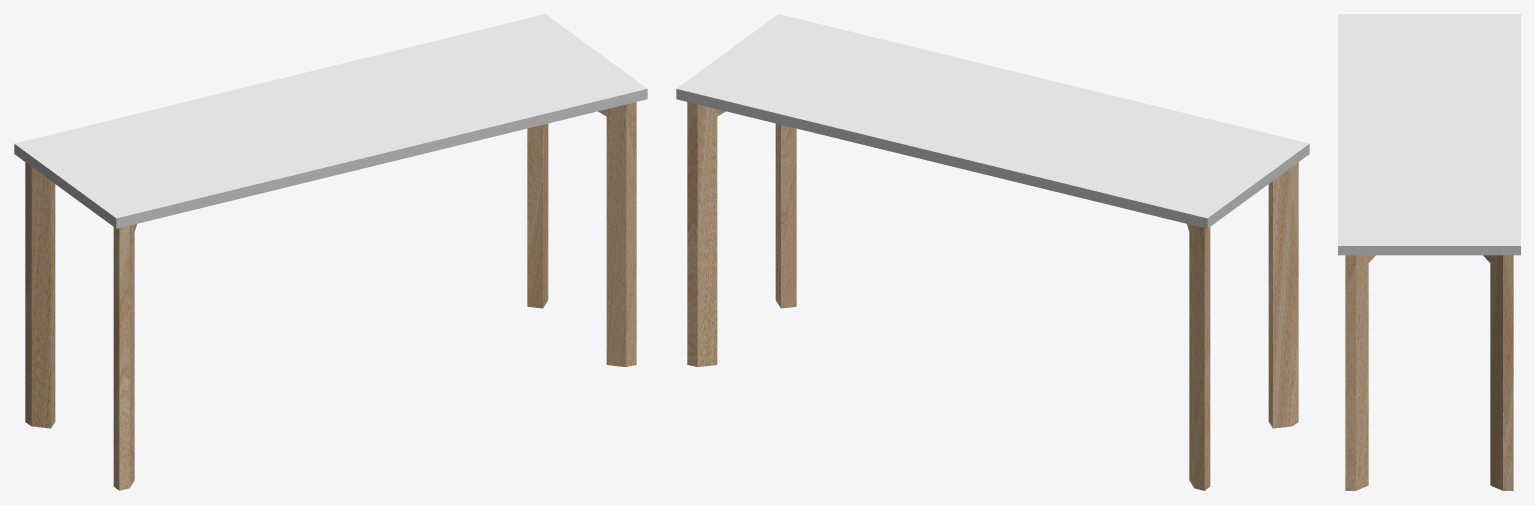
The model's file is 3module.glb.
3 views of the same model, side by side, from view 1: azimuth 30°, elevation 25°; view 2: azimuth 150°, elevation 25°; view 3: azimuth 270°, elevation 25° (orthographic). The views are drawn at different scales.
Visible parts, largest first — view 1: 3D desks (2); view 2: 3D desks (2); view 3: 3D desks (2).
Part boxes in pixels (x1,y1,x2,y2): 3D desks (2): (14, 14, 647, 490); 3D desks (2): (676, 14, 1309, 490); 3D desks (2): (1338, 14, 1520, 490).
Size of the model in its own units: 18.96 by 9.45 by 6.32.
3 materials, 1 textured.
